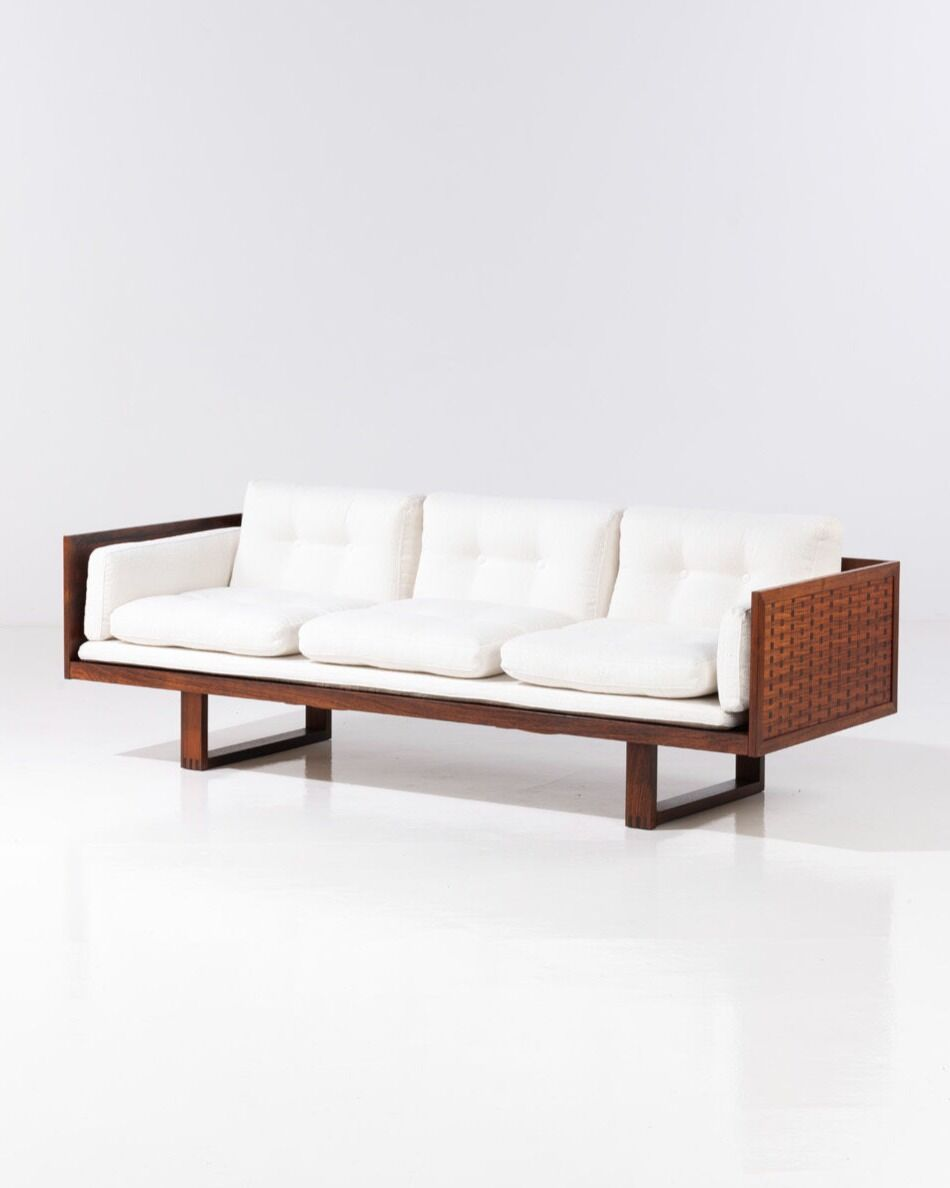3seatersofa: (65, 482, 898, 828)
backrest: (233, 484, 840, 624)
base: (73, 641, 747, 752)
leftarmrest: (717, 558, 898, 744)
leg: (625, 742, 763, 829), (180, 692, 330, 770)
rightarmrest: (63, 516, 240, 677)
seat: (110, 583, 724, 708)
